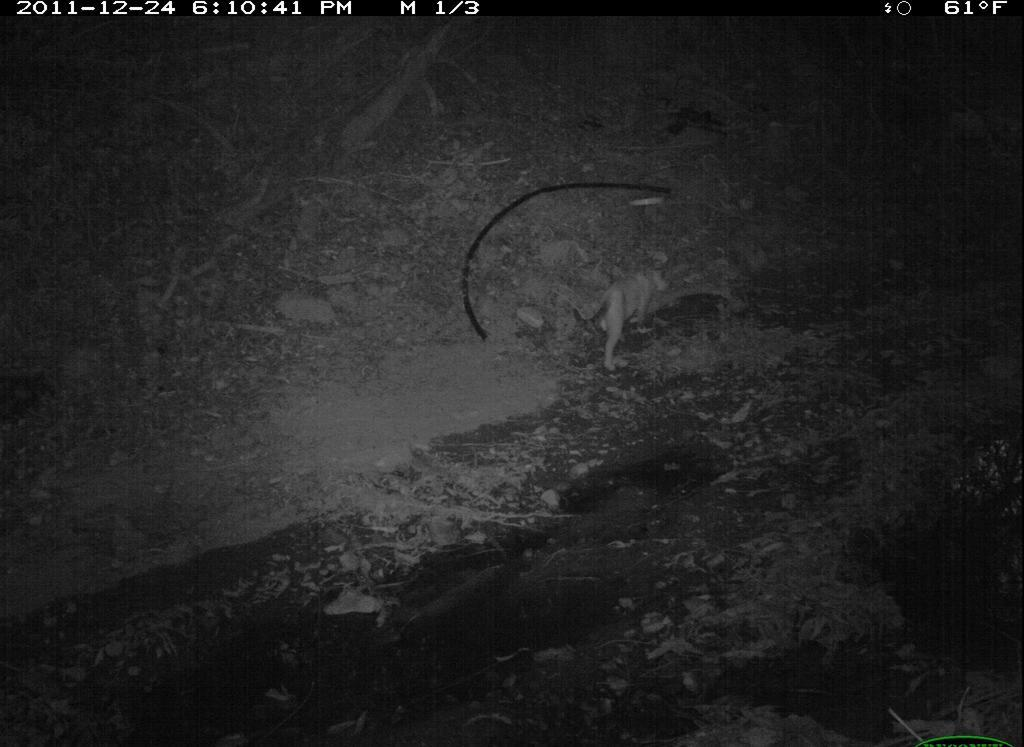cat: (573, 249, 680, 379)
